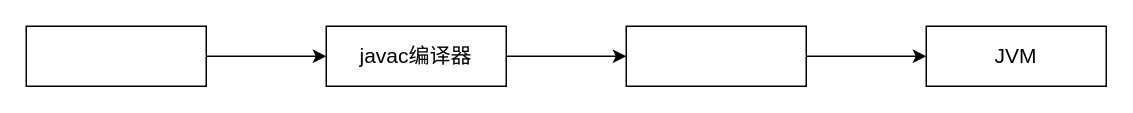
Some shapes in this 1133 by 113 pixel diagram are drawn without their labels. Each missing label, with the centre of its shape:
"*.class" goes at [715,55].
"*.java" goes at [115,55].
